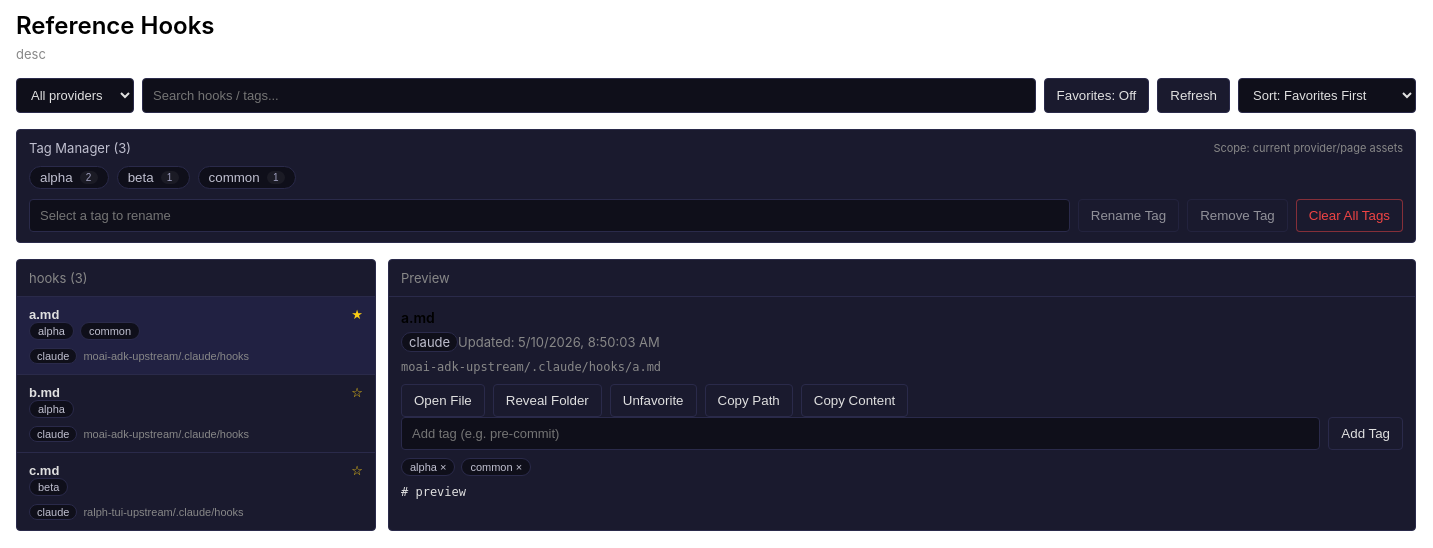
Test: ReferenceAssetsPage › shows favorite-only sort selector when favorites filter is enabled
Expected: the text "Tag Manager (3)" is shown, [29, 140, 131, 156]
Click the button "Favorites: Off": (1096, 96) [1044, 78, 1149, 113]
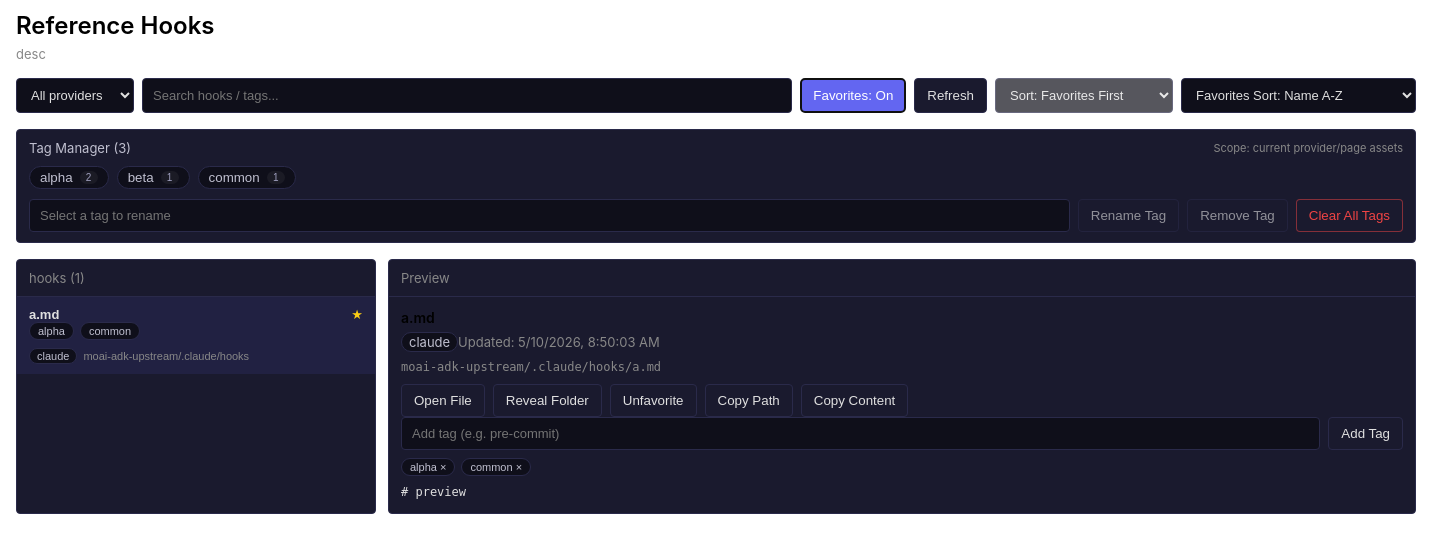
Expected: the button "Favorites: On" is shown, [800, 78, 906, 113]
